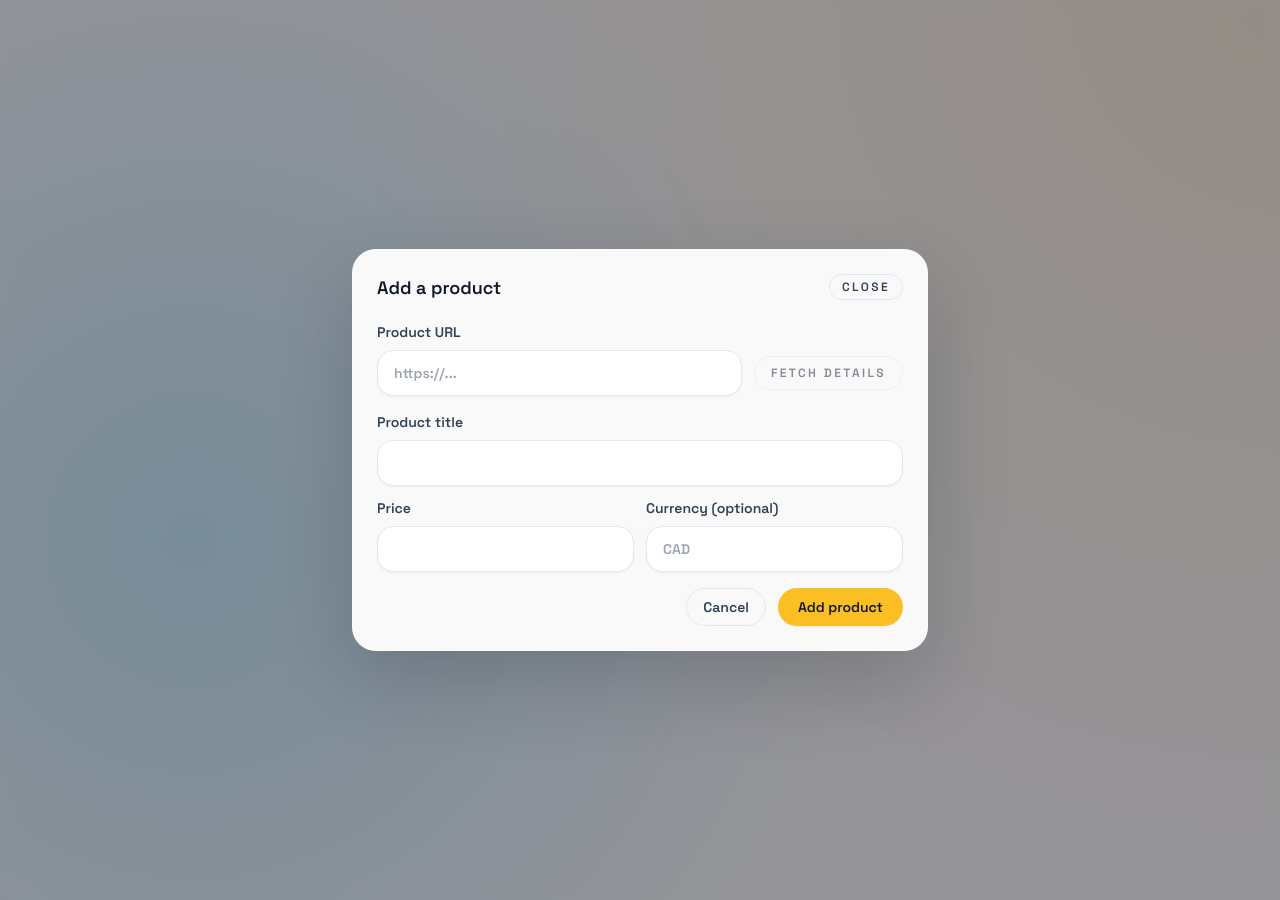
Test: AddProductModal › submits a product
Type "https://example.com/product" into the field labelled "Product URL".
click(559, 373); type("https://example.com/product")  # box [377,350,742,396]
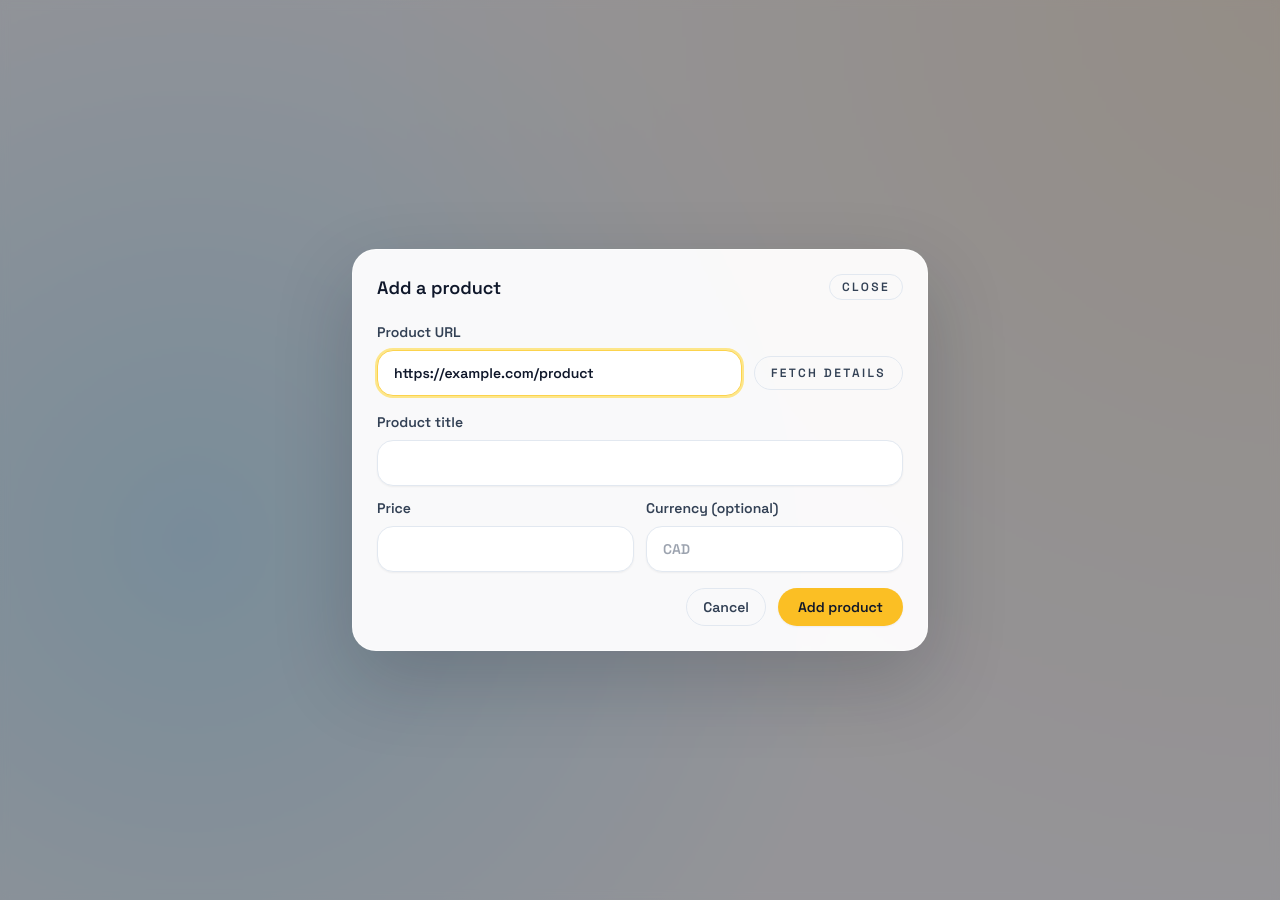
Type "Test item" into the field labelled "Product title".
click(640, 463); type("Test item")  # box [377,440,903,486]
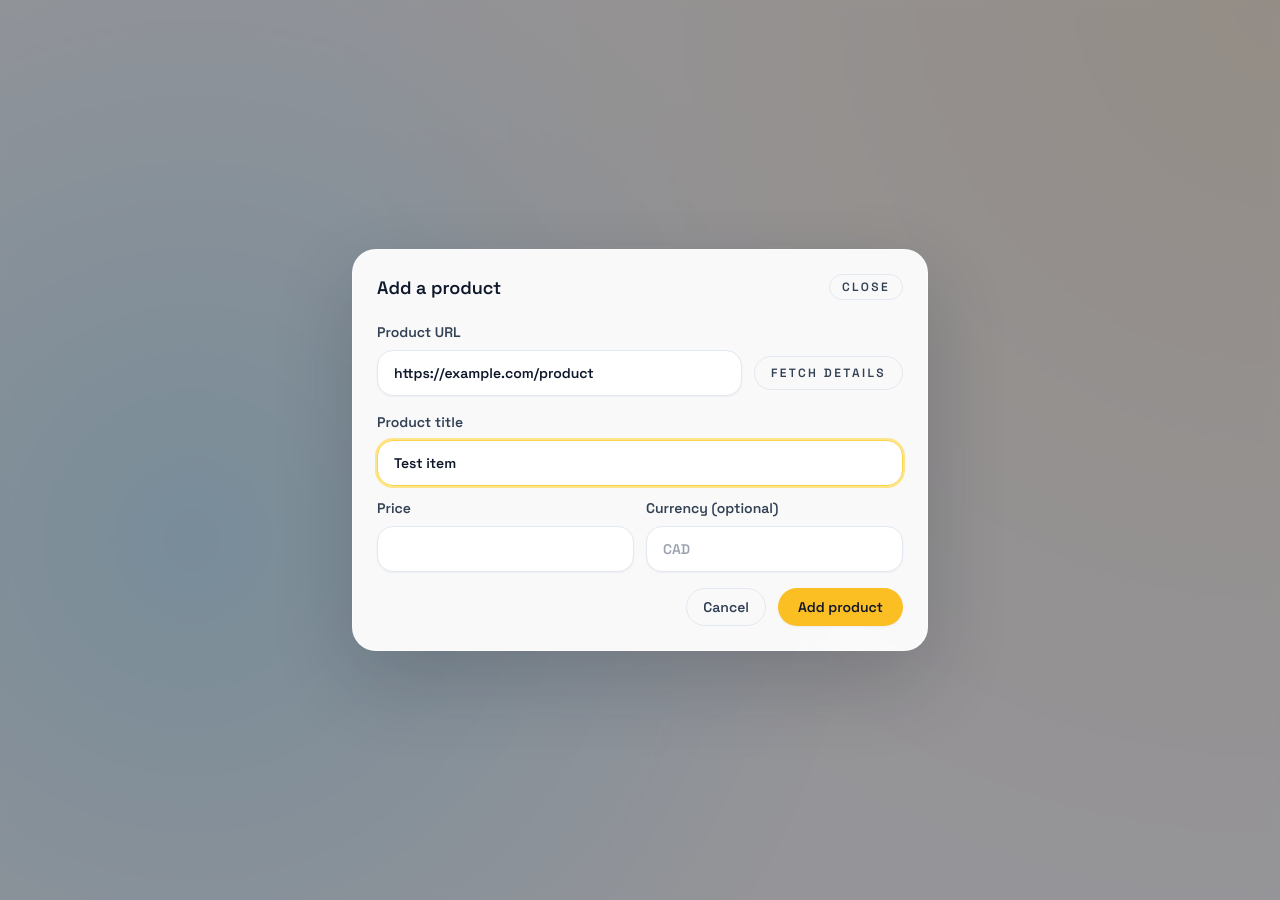
Type "19.99" into the number field labelled "Price".
click(506, 549); type("19.99")  # box [377,526,634,572]
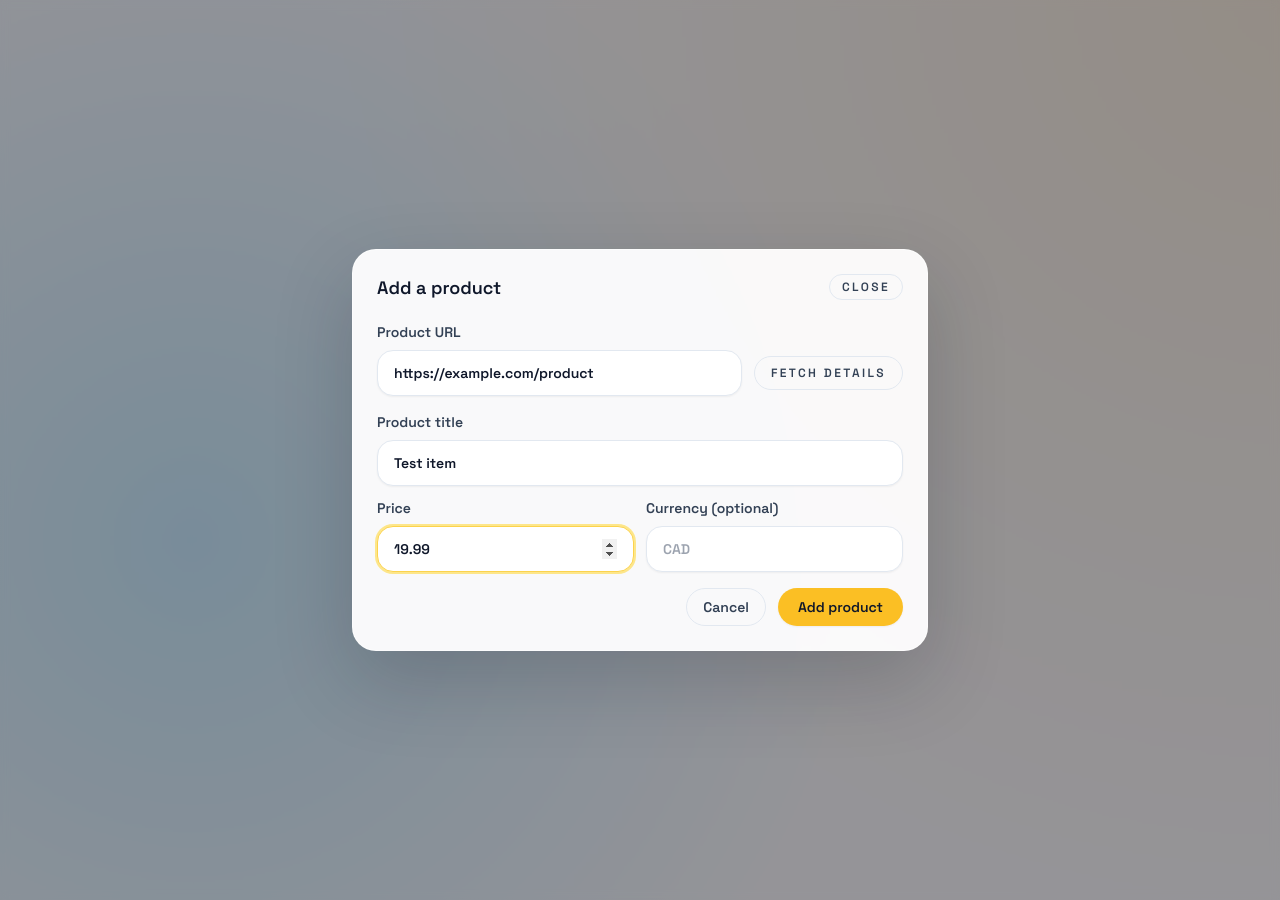
Type "USD" into the field labelled "Currency (optional)".
click(774, 549); type("USD")  # box [646,526,903,572]
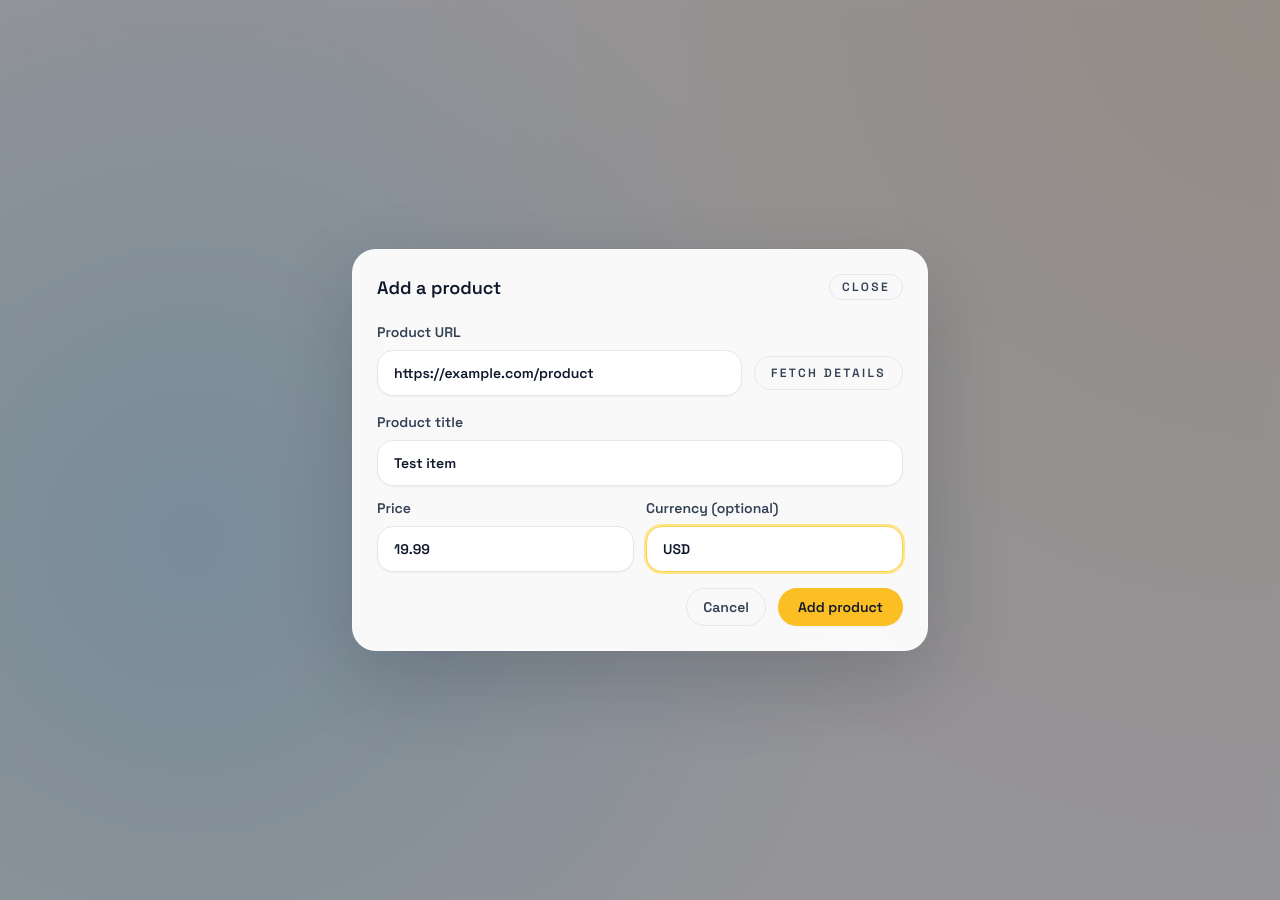
Click the button "Add product".
click(840, 607)  # box [778,588,903,626]
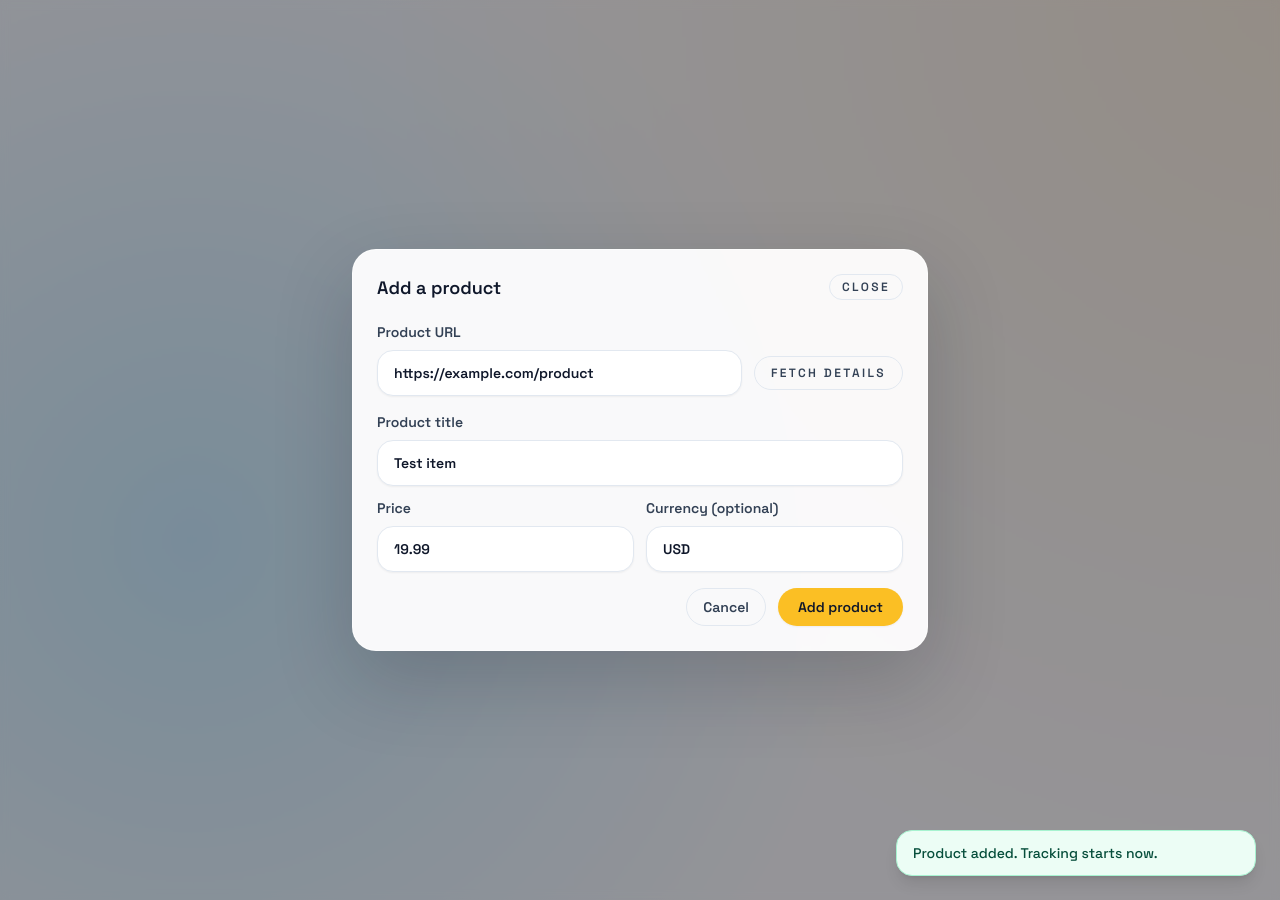
Now the text "Product added. Tracking starts now." is shown, box [896,830,1256,876]
